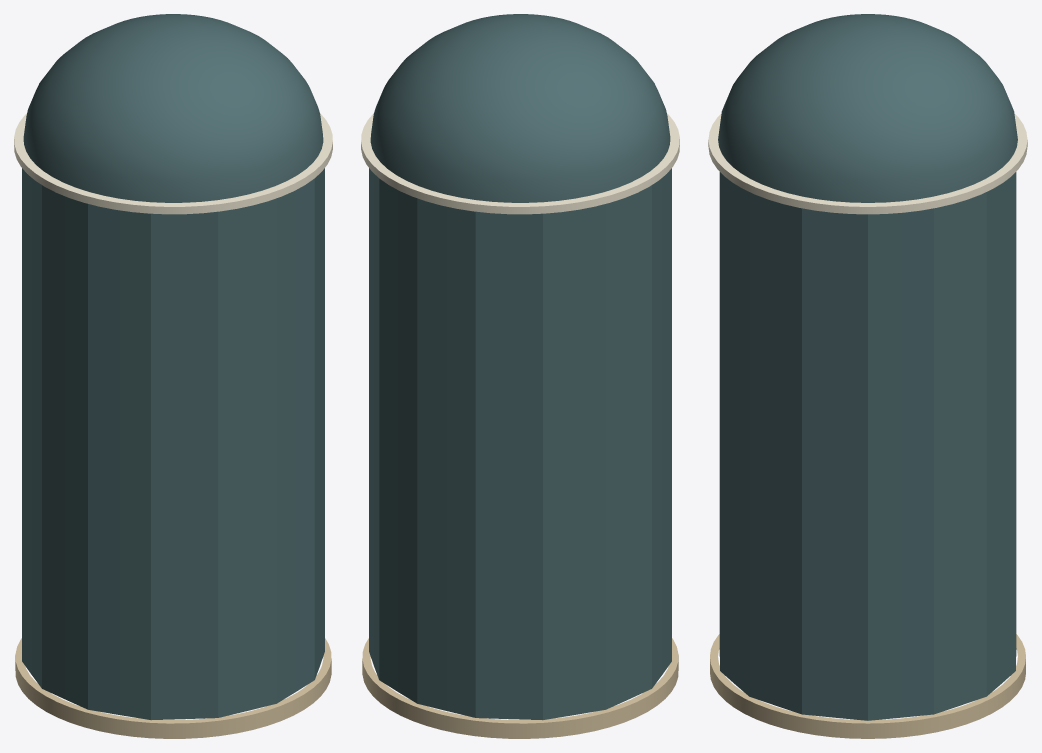
The model's file is KC32__AD_Arc_Pavilion_Dome.glb.
3 renders of one model, left to right at view 1: azimuth 30°, elevation 25°; view 2: azimuth 150°, elevation 25°; view 3: azimuth 270°, elevation 25°, orthographic.
Visible parts, largest first — view 1: KC32_CORPS__AD_Arc_Pavilion_Dome, KC32_BRONZE__AD_Arc_Pavilion_Dome, KC32_LUMIERE__AD_Arc_Pavilion_Dome; view 2: KC32_CORPS__AD_Arc_Pavilion_Dome, KC32_BRONZE__AD_Arc_Pavilion_Dome, KC32_LUMIERE__AD_Arc_Pavilion_Dome; view 3: KC32_CORPS__AD_Arc_Pavilion_Dome, KC32_BRONZE__AD_Arc_Pavilion_Dome, KC32_LUMIERE__AD_Arc_Pavilion_Dome.
Part boxes in pixels (<box>): KC32_CORPS__AD_Arc_Pavilion_Dome: <box>22,14,324,720</box>; KC32_BRONZE__AD_Arc_Pavilion_Dome: <box>15,638,331,738</box>; KC32_LUMIERE__AD_Arc_Pavilion_Dome: <box>14,113,332,214</box>; KC32_CORPS__AD_Arc_Pavilion_Dome: <box>369,14,671,720</box>; KC32_BRONZE__AD_Arc_Pavilion_Dome: <box>362,638,678,738</box>; KC32_LUMIERE__AD_Arc_Pavilion_Dome: <box>361,113,679,214</box>; KC32_CORPS__AD_Arc_Pavilion_Dome: <box>718,14,1017,720</box>; KC32_BRONZE__AD_Arc_Pavilion_Dome: <box>710,634,1025,738</box>; KC32_LUMIERE__AD_Arc_Pavilion_Dome: <box>708,113,1027,214</box>.
Bounding box in the file's own units: 4.68 × 10.38 × 4.68.
